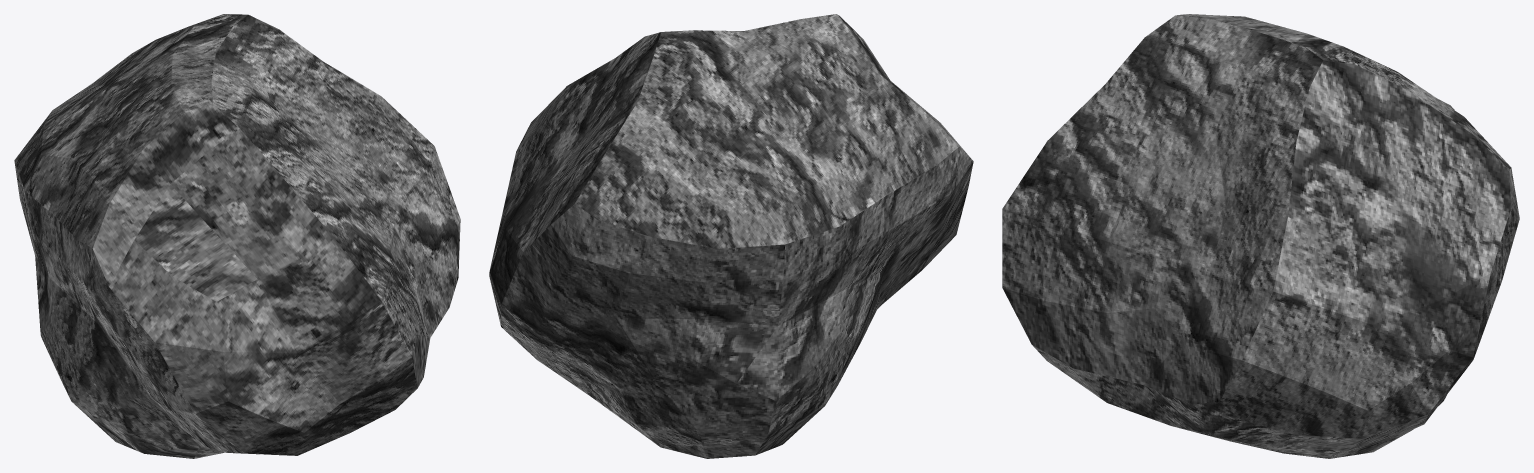
File: Stone.fbx
The picture shows the model from 3 angles, left to right: view 1: azimuth 30°, elevation 25°; view 2: azimuth 150°, elevation 25°; view 3: azimuth 270°, elevation 25°; orthographic projection. The views are drawn at different scales.
Parts seen in each view (by area): view 1: Icosphere; view 2: Icosphere; view 3: Icosphere.
Part boxes in pixels (<box>): Icosphere: <box>14,14,460,458</box>; Icosphere: <box>489,14,973,458</box>; Icosphere: <box>1002,14,1519,458</box>.
Size of the model in its own units: 249 by 245 by 275.
Materials: 1 (1 with a texture image).
